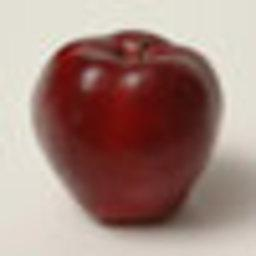apple: (30, 27, 224, 223)
